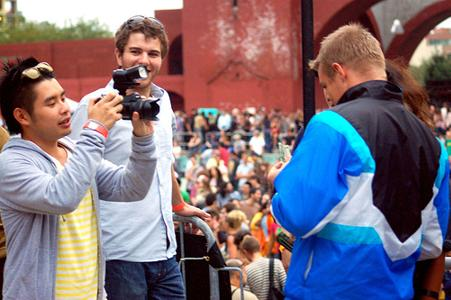person: (2, 59, 157, 300)
